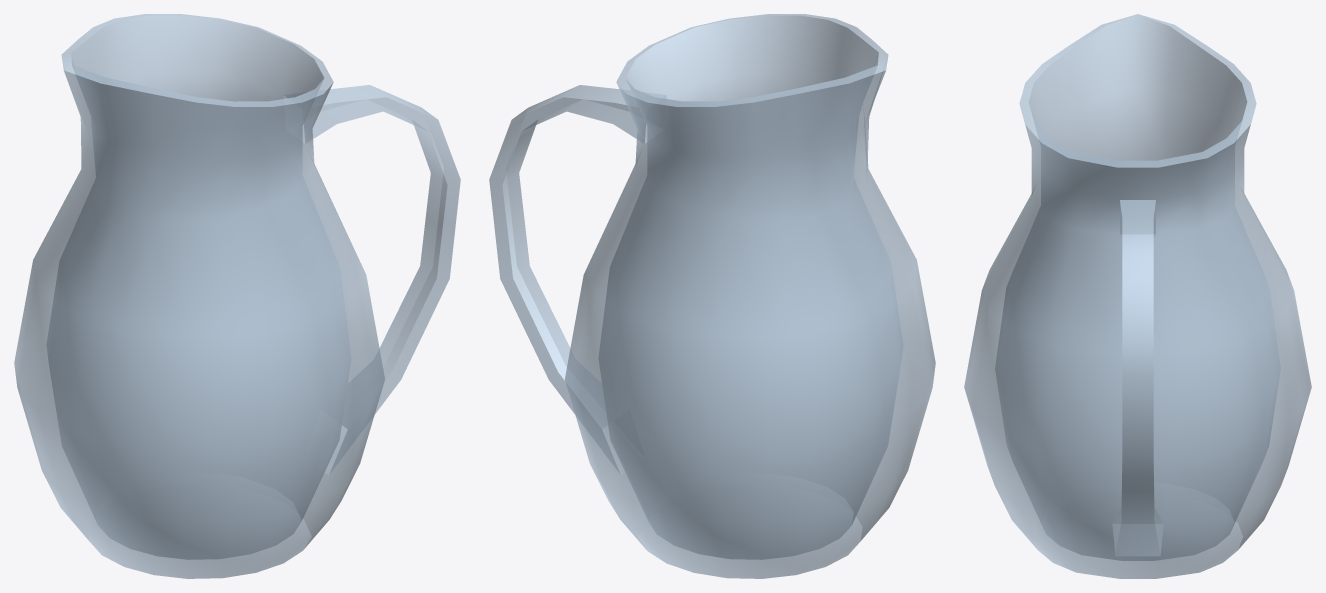
The model's file is Jug.FBX.
The picture shows the model from 3 angles, left to right: view 1: azimuth 30°, elevation 25°; view 2: azimuth 150°, elevation 25°; view 3: azimuth 270°, elevation 25°; orthographic projection. The views are drawn at different scales.
Parts seen in each view (by area): view 1: Jug; view 2: Jug; view 3: Jug.
Boxes of the visible parts, box(x1,y1,x2,y2) form: Jug: box(14, 14, 460, 578); Jug: box(489, 14, 935, 578); Jug: box(964, 14, 1311, 578).
Size of the model in its own units: 99.3 by 114 by 77.44.
